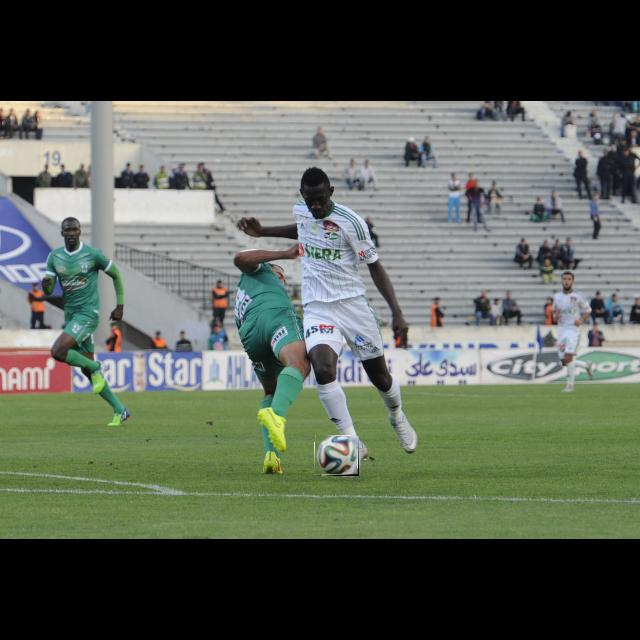Football: (315, 436, 359, 476)
